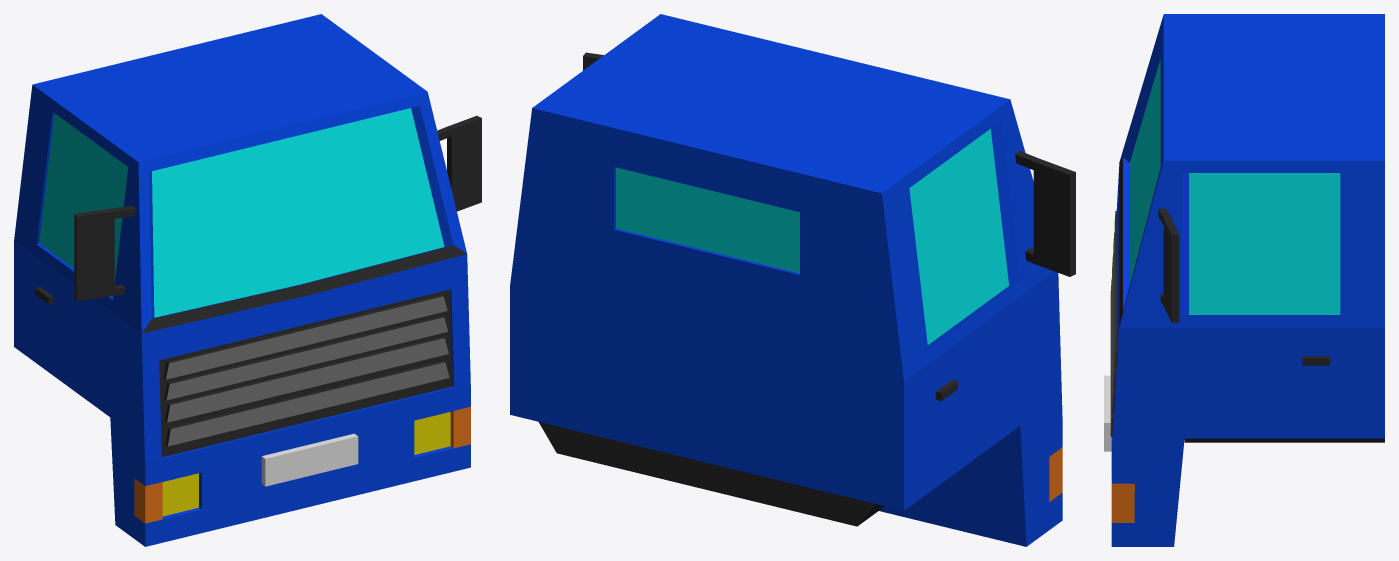
Rendered from TruckFuehrerhaus.fbx.
3 views of the same model, side by side, from view 1: azimuth 30°, elevation 25°; view 2: azimuth 150°, elevation 25°; view 3: azimuth 270°, elevation 25° (orthographic). The views are drawn at different scales.
Parts seen in each view (by area): view 1: TruckFührerhaus; view 2: TruckFührerhaus; view 3: TruckFührerhaus.
Part boxes in pixels (x1,y1,x2,y2): TruckFührerhaus: (14,14,481,546); TruckFührerhaus: (510,14,1075,546); TruckFührerhaus: (1104,14,1384,546).
Size of the model in its own units: 289 by 247 by 167.
